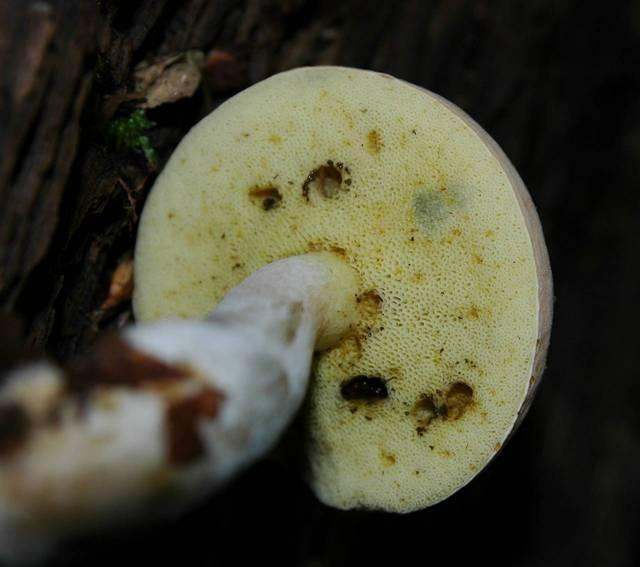Edible Mushroom: (129, 62, 555, 515)
